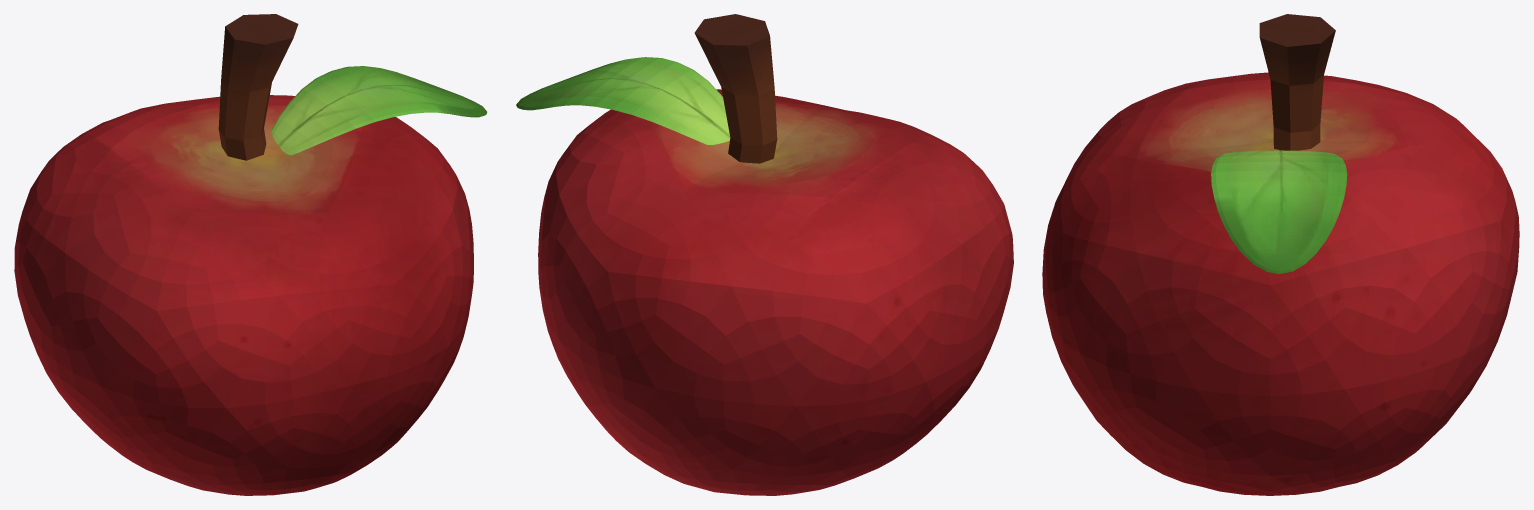
File: apple.glb 15-00-08-282.glb
3 renders of one model, left to right at view 1: azimuth 30°, elevation 25°; view 2: azimuth 150°, elevation 25°; view 3: azimuth 270°, elevation 25°, orthographic. The views are drawn at different scales.
Parts seen in each view (by area): view 1: chair.001; view 2: chair.001; view 3: chair.001.
Boxes of the visible parts, x1,y1,x2,y2 form: chair.001: (14,14,487,495); chair.001: (516,14,1013,495); chair.001: (1042,14,1519,495).
Bounding box in the file's own units: 1.37 × 1.24 × 1.22.
1 material, 1 textured.
